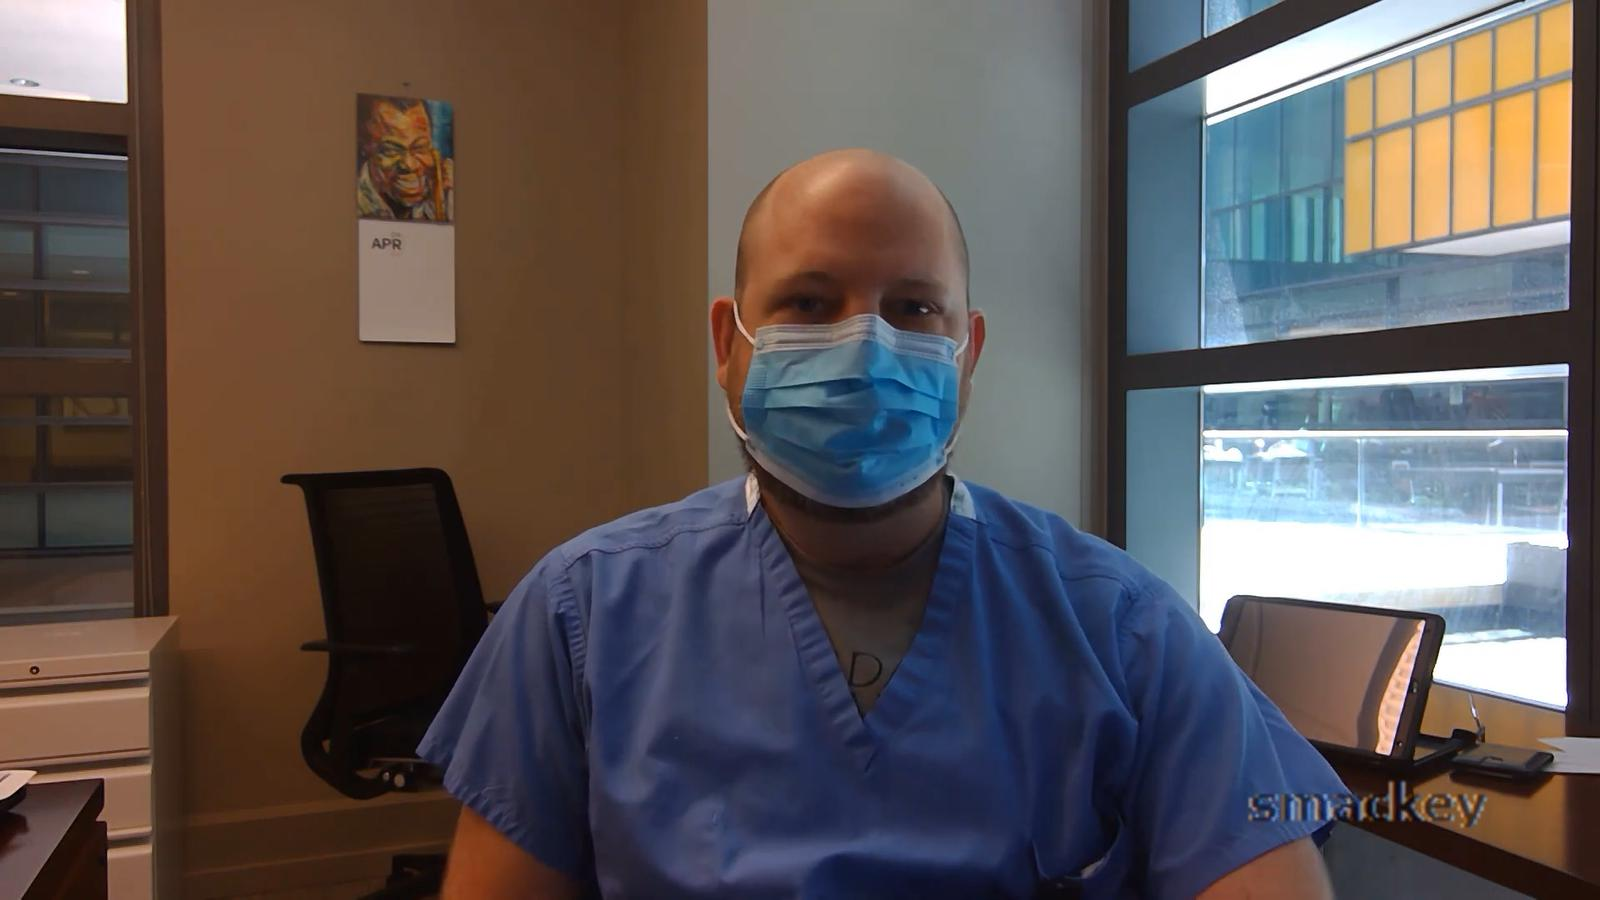with_mask: (755, 263, 947, 482)
